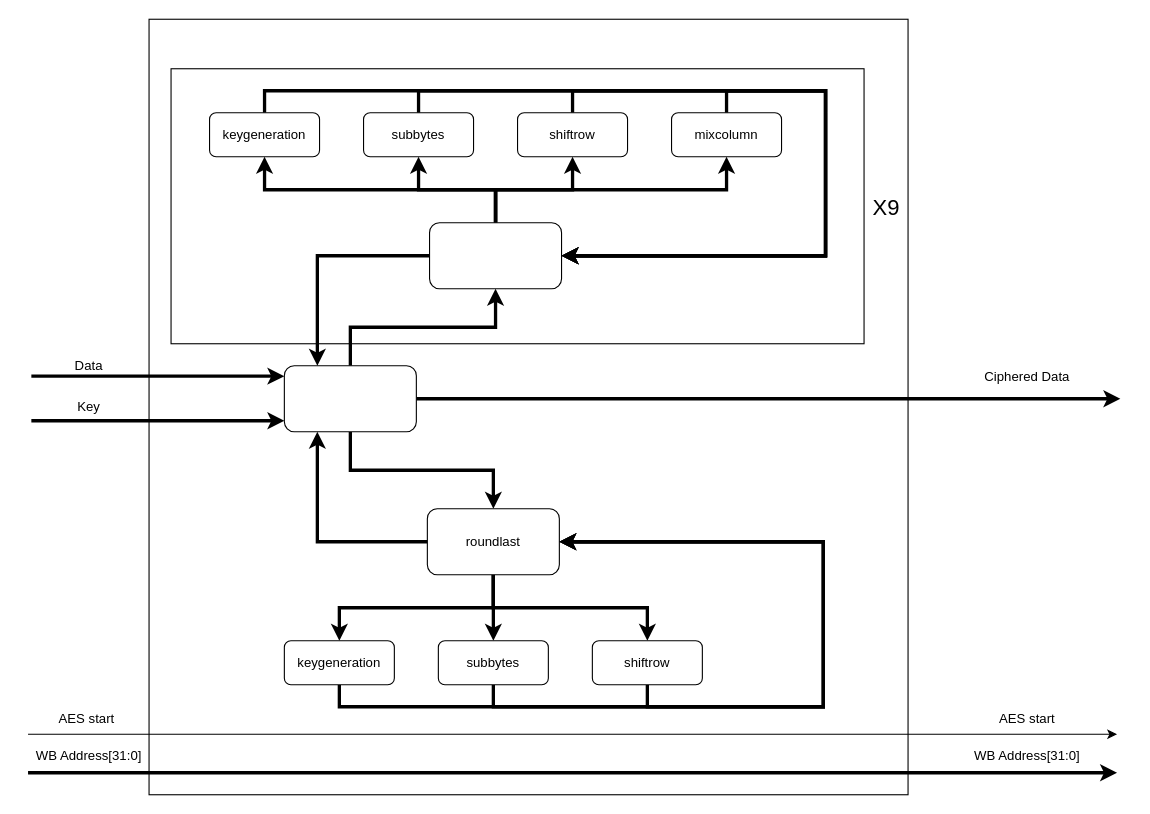
This 1150x814 diagram has some shape labels left out. Each missing label, with the centre of its shape:
riscv_aes_cipher: the point at 349,398
rounds: the point at 495,255
